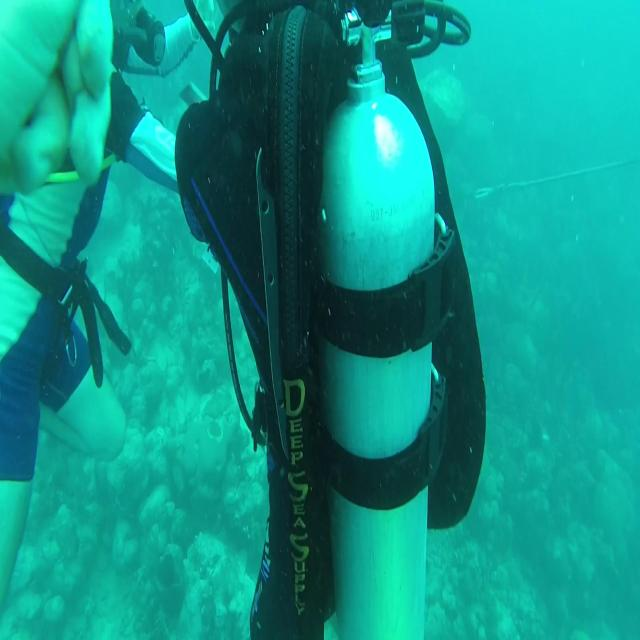human: (173, 0, 488, 638), (0, 1, 184, 618)
